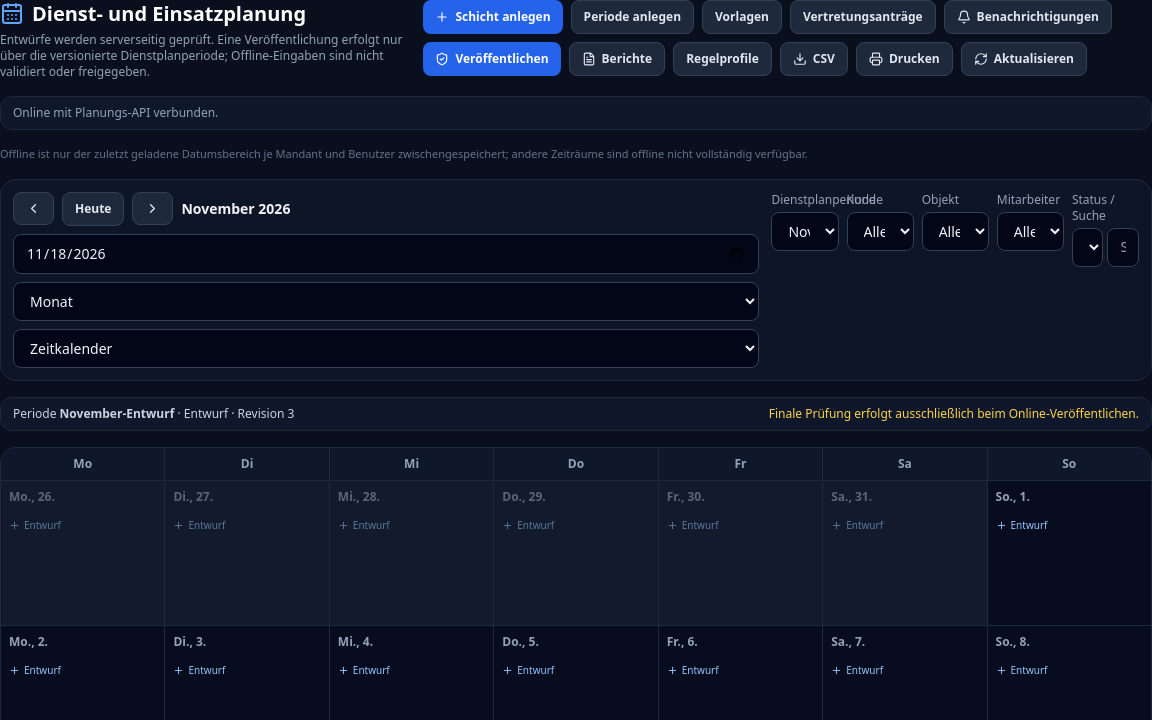
Scenario: RosterModule › requires online permission for publishing and surfaces blocking findings
Click the button "Veröffentlichen".
click(492, 59)  # box [423,42,560,76]
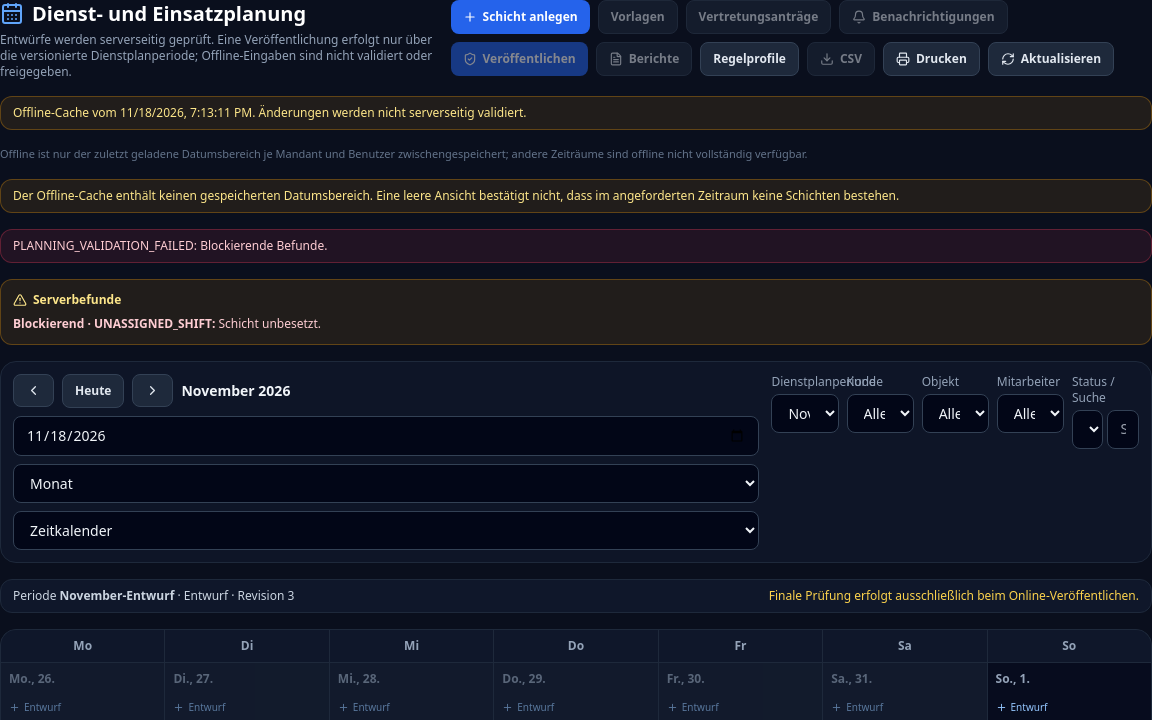
Now the text "Schicht unbesetzt." is shown, box [218,314,321,332]
Now the button "Veröffentlichen" is disabled, box [450,42,588,76]
